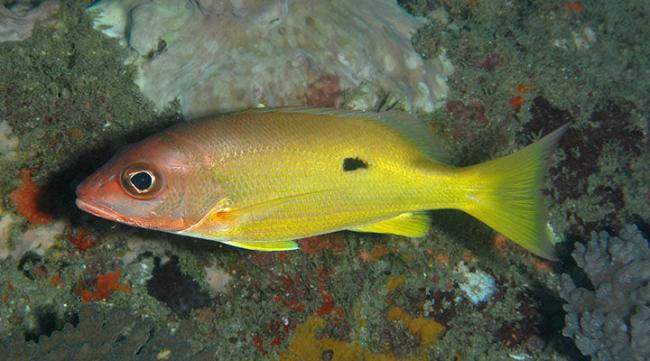fish: (74, 105, 573, 263)
